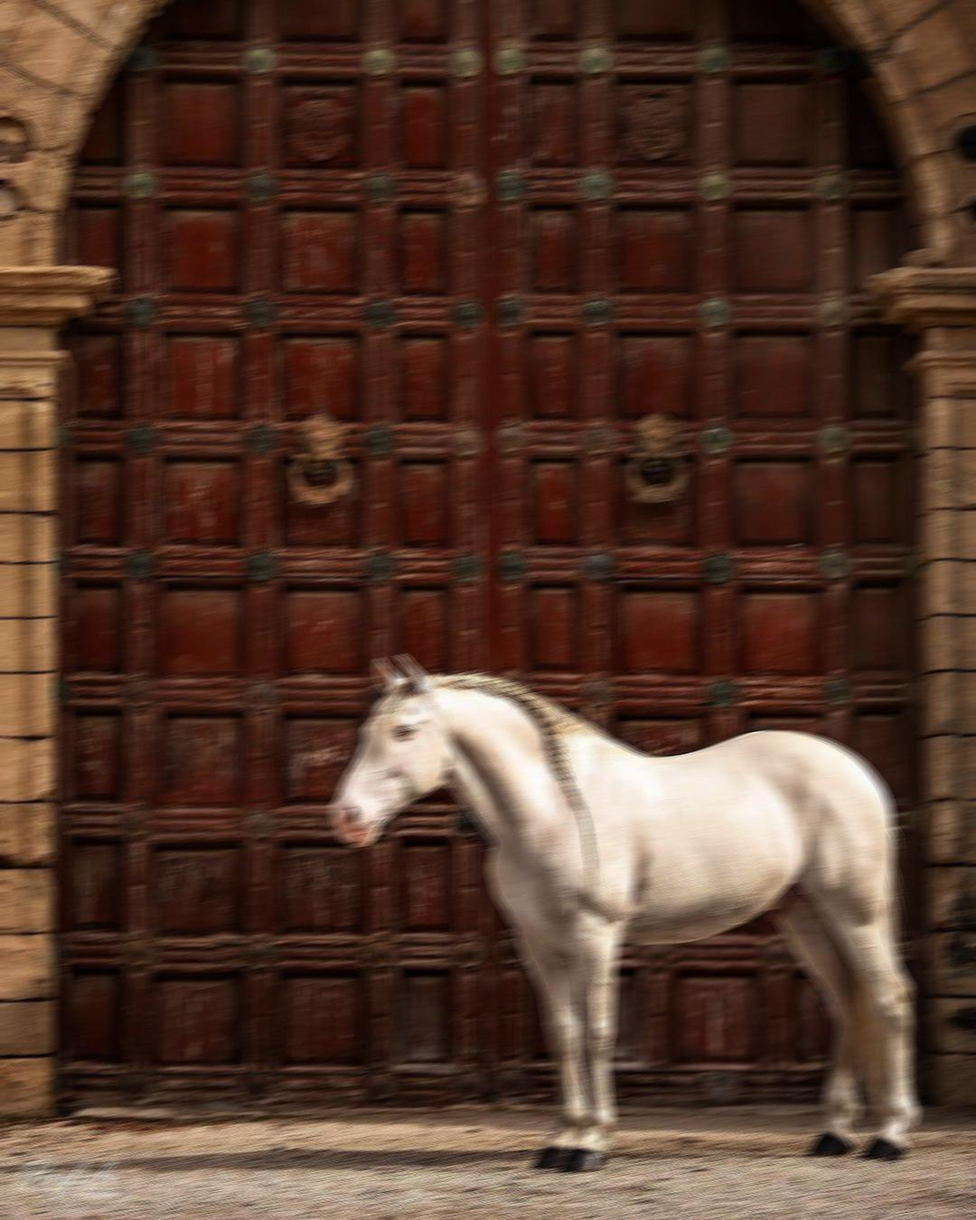horse: (328, 652, 919, 1173)
